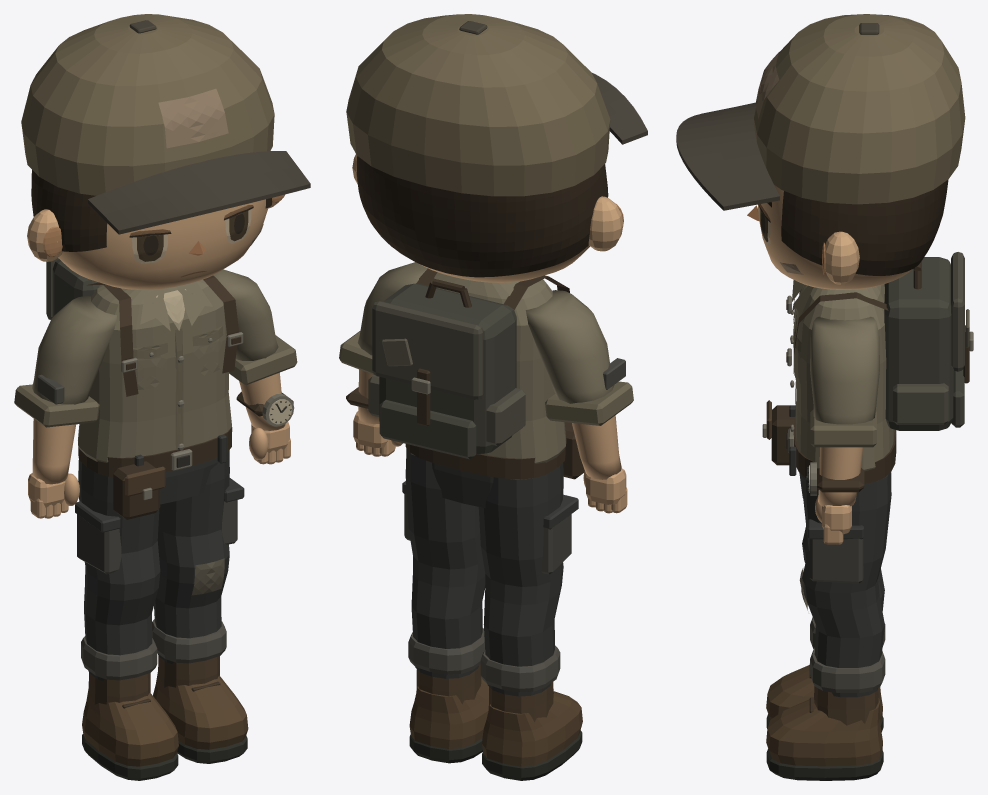
File: ThreeHeadSurvivor.fbx
The picture shows the model from 3 angles, left to right: view 1: azimuth 30°, elevation 25°; view 2: azimuth 150°, elevation 25°; view 3: azimuth 270°, elevation 25°; orthographic projection. The views are drawn at different scales.
Parts seen in each view (by area): view 1: ThreeHead_Cap, ThreeHead_Shirt, ThreeHead_Trousers, ThreeHead_Boots, ThreeHead_Head, ThreeHead_Backpack, ThreeHead_Body, ThreeHead_Hair, ThreeHead_Hands, ThreeHead_BeltPouch, ThreeHead_Belt, ThreeHead_FaceDetails (+1 smaller); view 2: ThreeHead_Cap, ThreeHead_Trousers, ThreeHead_Backpack, ThreeHead_Shirt, ThreeHead_Hair, ThreeHead_Boots, ThreeHead_Body, ThreeHead_Hands, ThreeHead_Belt, ThreeHead_Head, ThreeHead_BeltPouch; view 3: ThreeHead_Cap, ThreeHead_Shirt, ThreeHead_Trousers, ThreeHead_Backpack, ThreeHead_Boots, ThreeHead_Hair, ThreeHead_Head, ThreeHead_Body, ThreeHead_BeltPouch, ThreeHead_Belt, ThreeHead_Hands, ThreeHead_Watch (+1 smaller).
Part boxes in pixels (bbox=[...]): ThreeHead_Cap: bbox=[21, 14, 310, 234]; ThreeHead_Shirt: bbox=[14, 269, 297, 462]; ThreeHead_Trousers: bbox=[75, 434, 244, 680]; ThreeHead_Boots: bbox=[82, 656, 248, 780]; ThreeHead_Head: bbox=[27, 194, 285, 289]; ThreeHead_Backpack: bbox=[46, 258, 243, 396]; ThreeHead_Body: bbox=[32, 372, 285, 484]; ThreeHead_Hair: bbox=[31, 170, 271, 251]; ThreeHead_Hands: bbox=[28, 422, 290, 518]; ThreeHead_BeltPouch: bbox=[113, 461, 165, 519]; ThreeHead_Belt: bbox=[78, 427, 231, 476]; ThreeHead_FaceDetails: bbox=[129, 205, 263, 277]; ThreeHead_Cap: bbox=[346, 14, 647, 196]; ThreeHead_Trousers: bbox=[402, 448, 578, 696]; ThreeHead_Backpack: bbox=[368, 268, 569, 459]; ThreeHead_Shirt: bbox=[339, 262, 633, 463]; ThreeHead_Hair: bbox=[357, 156, 608, 277]; ThreeHead_Boots: bbox=[409, 664, 582, 780]; ThreeHead_Body: bbox=[358, 369, 621, 479]; ThreeHead_Hands: bbox=[353, 411, 627, 513]; ThreeHead_Belt: bbox=[405, 444, 565, 479]; ThreeHead_Head: bbox=[352, 154, 623, 282]; ThreeHead_BeltPouch: bbox=[563, 422, 584, 479]; ThreeHead_Cap: bbox=[676, 14, 965, 210]; ThreeHead_Shirt: bbox=[790, 280, 894, 471]; ThreeHead_Trousers: bbox=[789, 405, 891, 697]; ThreeHead_Backpack: bbox=[786, 252, 973, 430]; ThreeHead_Boots: bbox=[766, 664, 883, 780]; ThreeHead_Hair: bbox=[781, 179, 948, 275]; ThreeHead_Head: bbox=[758, 185, 911, 289]; ThreeHead_Body: bbox=[818, 447, 863, 506]; ThreeHead_BeltPouch: bbox=[762, 400, 795, 465]; ThreeHead_Belt: bbox=[786, 417, 896, 483]; ThreeHead_Hands: bbox=[815, 496, 851, 544]; ThreeHead_Watch: bbox=[806, 462, 864, 495].
Bounding box in the file's own units: 67.87 × 180 × 67.14.
